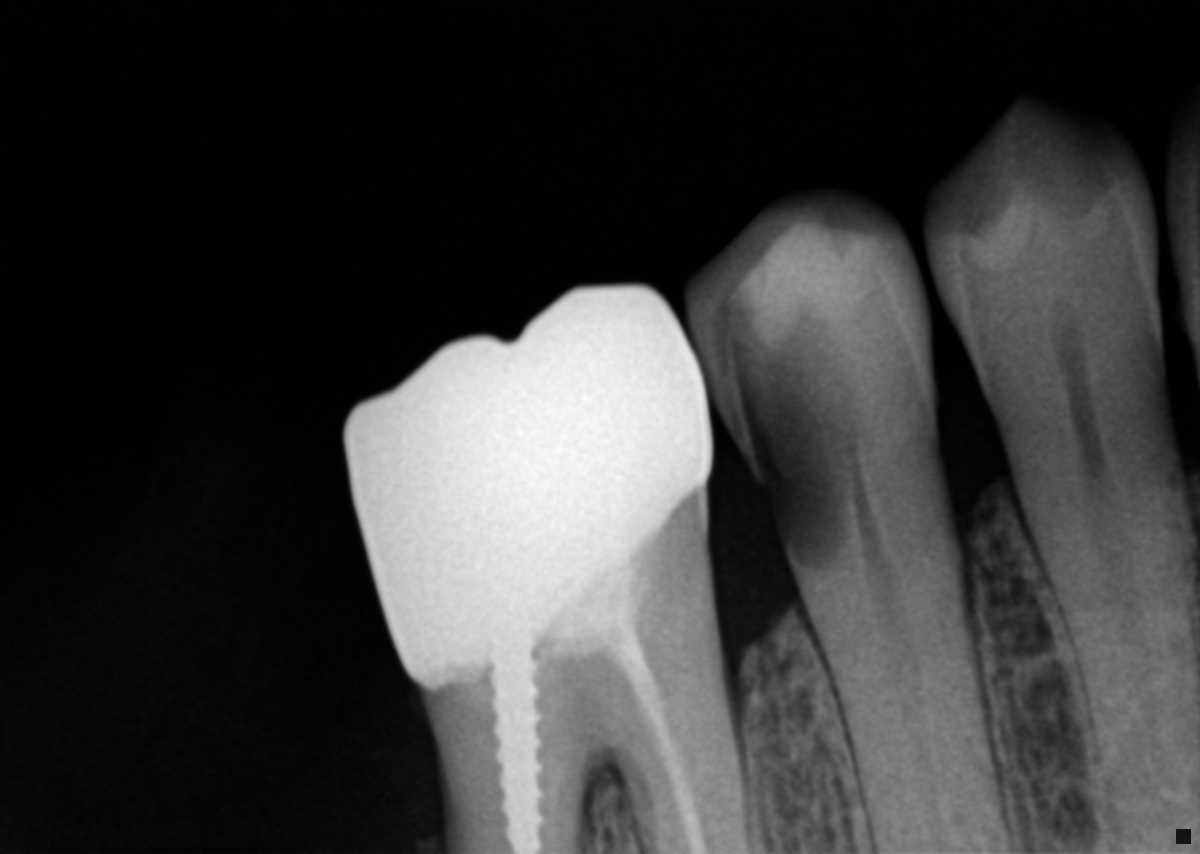Distal Root: (446, 775, 596, 854)
Main Canal: (1082, 446, 1157, 733), (865, 554, 941, 827)
Main Root: (1019, 437, 1200, 854), (807, 538, 1010, 854)
Mesial Root: (631, 711, 756, 854)
Root Canal Filling: (608, 611, 712, 853)
